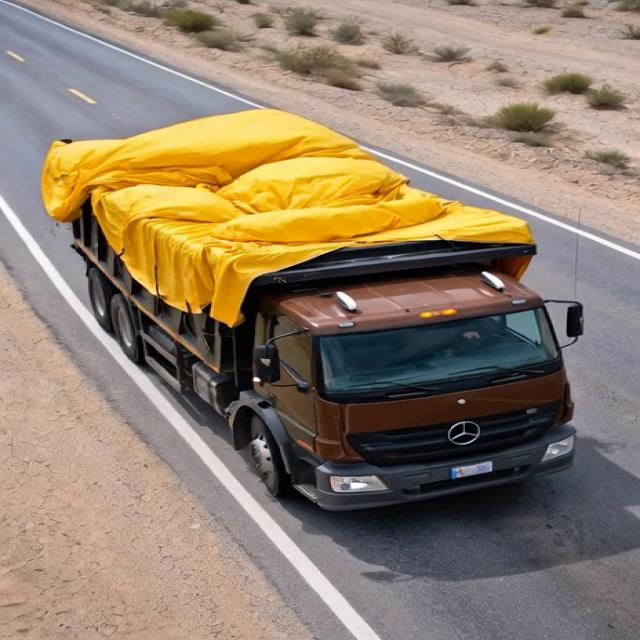trailer: (41, 111, 574, 272)
truck: (33, 64, 590, 525)
